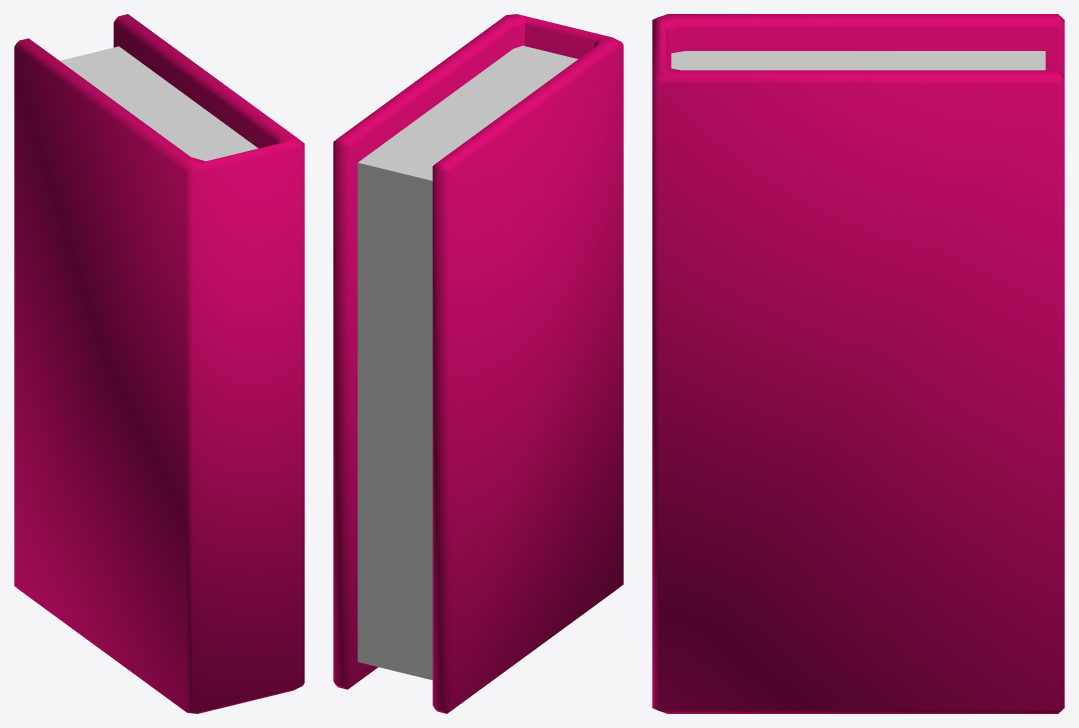
The model's file is mod_Book_A.fbx.
3 views of the same model, side by side, from view 1: azimuth 30°, elevation 25°; view 2: azimuth 150°, elevation 25°; view 3: azimuth 270°, elevation 25° (orthographic). The views are drawn at different scales.
Parts seen in each view (by area): view 1: switch1; view 2: switch1; view 3: switch1.
Part boxes in pixels (x1,y1,x2,y2): switch1: (14,14,304,713); switch1: (333,14,623,713); switch1: (652,14,1064,713).
Bounding box in the file's own units: 24.82 × 110 × 64.36.
